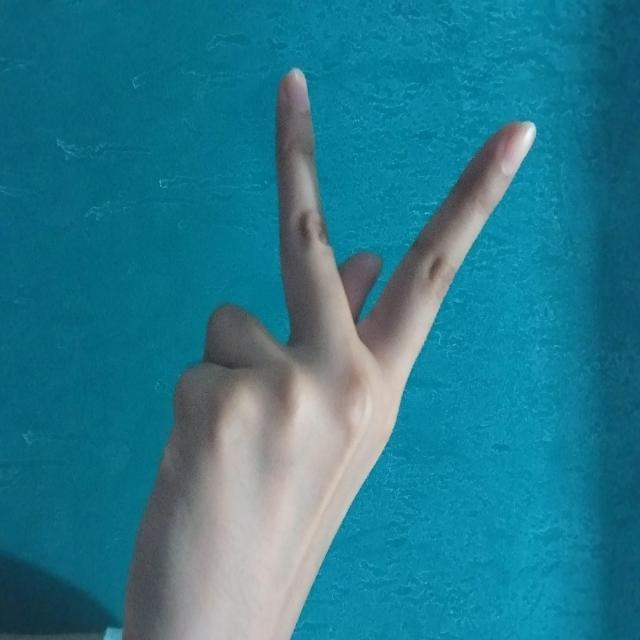K: (60, 102, 640, 511)
